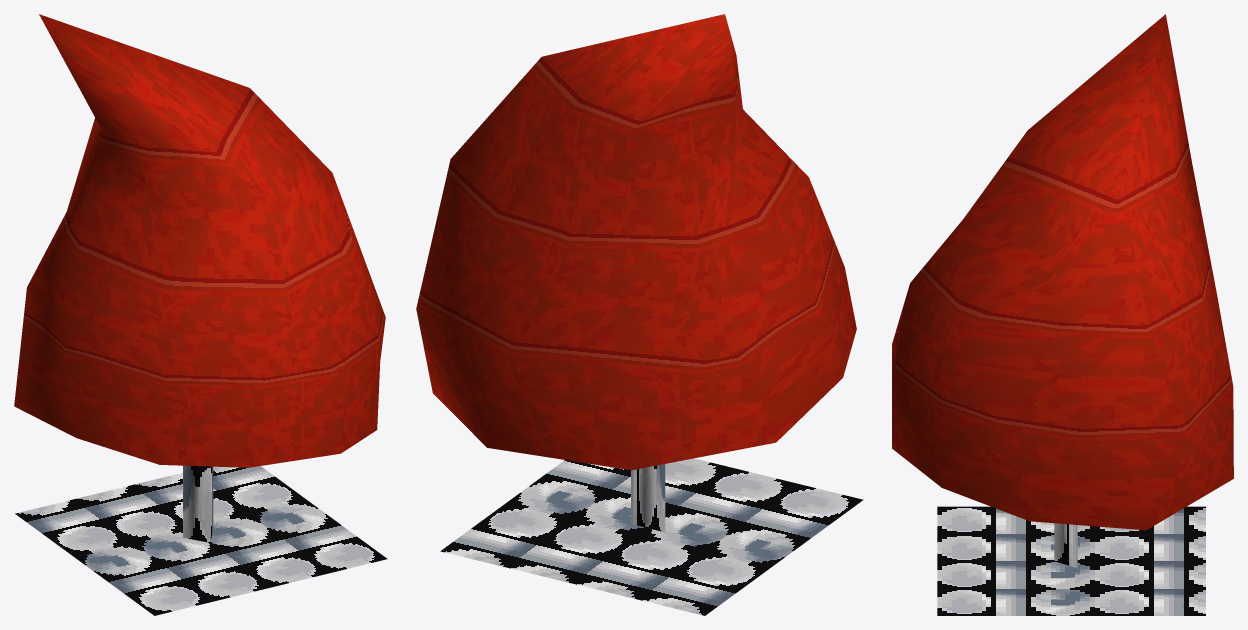
The model's file is 2885head020_c.gltf.
The picture shows the model from 3 angles, left to right: view 1: azimuth 30°, elevation 25°; view 2: azimuth 150°, elevation 25°; view 3: azimuth 270°, elevation 25°; orthographic projection. The views are drawn at different scales.
Parts seen in each view (by area): view 1: 2885head020_c; view 2: 2885head020_c; view 3: 2885head020_c.
Part boxes in pixels (x1,y1,x2,y2): 2885head020_c: [14, 14, 387, 615]; 2885head020_c: [416, 14, 863, 615]; 2885head020_c: [892, 14, 1233, 615].
Size of the model in its own units: 0.6233 by 0.9822 by 0.6106.
2 materials, 2 textured.
